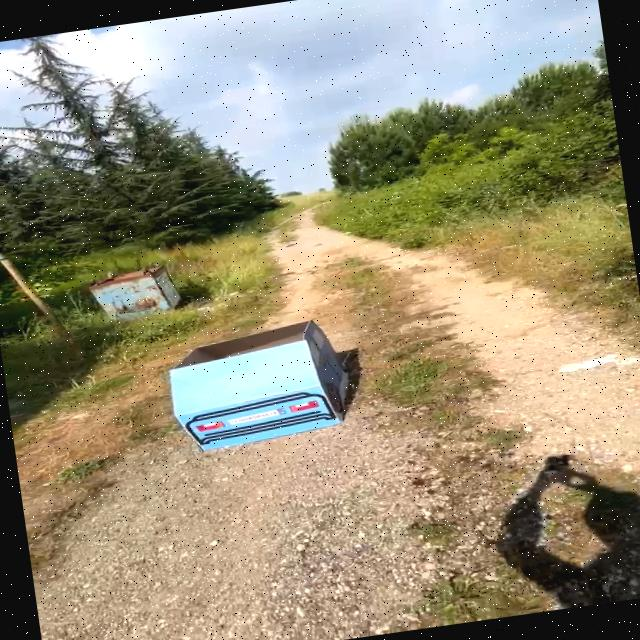blue_car: (142, 300, 375, 484)
